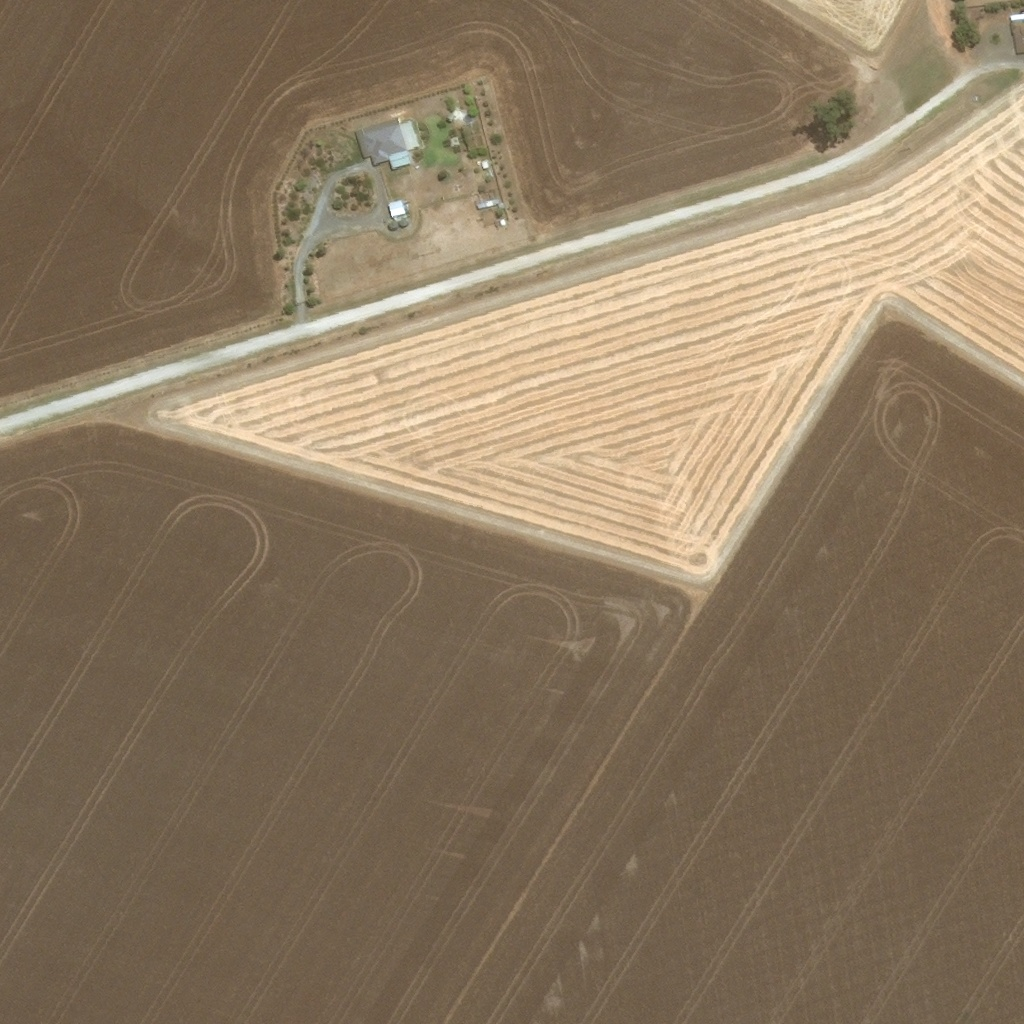0 no-damage: (355, 117, 419, 169), (387, 200, 405, 218), (475, 199, 495, 211), (477, 155, 490, 169), (387, 222, 396, 231), (398, 219, 407, 226)
4 un-classified: (1009, 24, 1023, 56), (1008, 13, 1023, 23)
